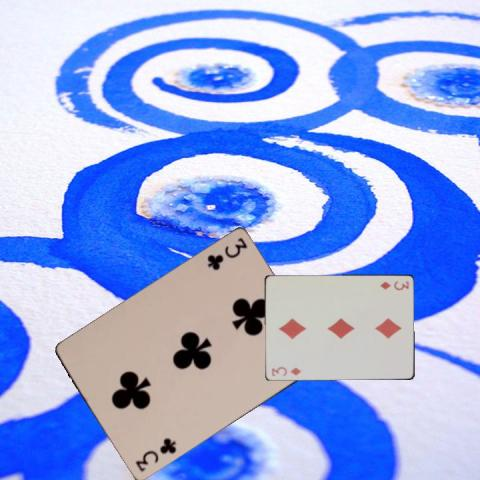3c: (132, 435, 178, 474), (204, 235, 249, 272)
3d: (269, 364, 302, 377), (377, 278, 410, 291)
